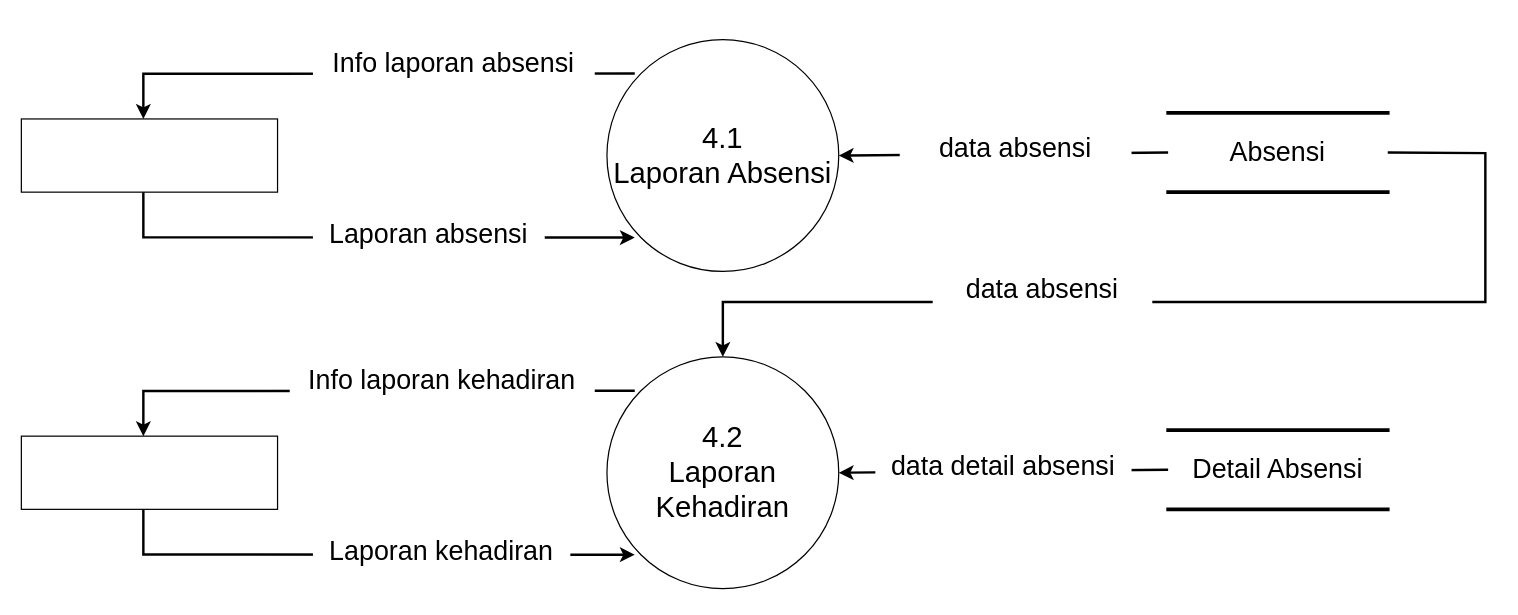
Image size: 1518x615. Some labels were removed from this diagram. Here are the shapes that lost their labels. From the top down, the centre of each, then its label:
At (149,155): "Admin".
At (149,472): "Karyawan".
